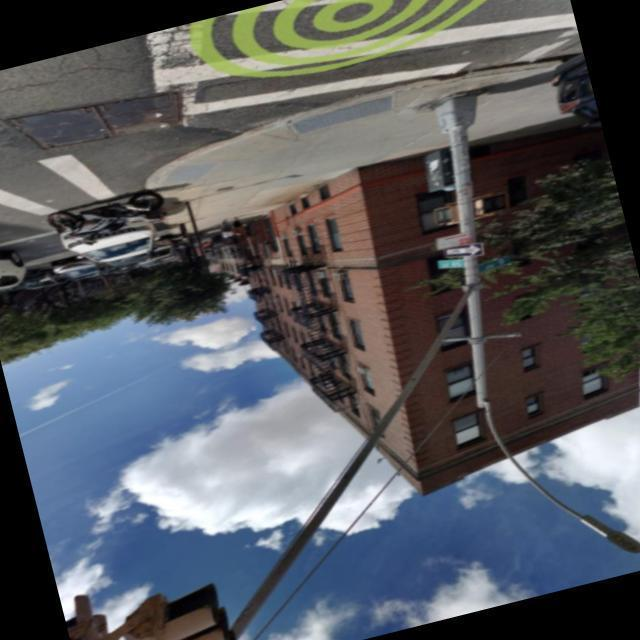off: (450, 290, 598, 640)
